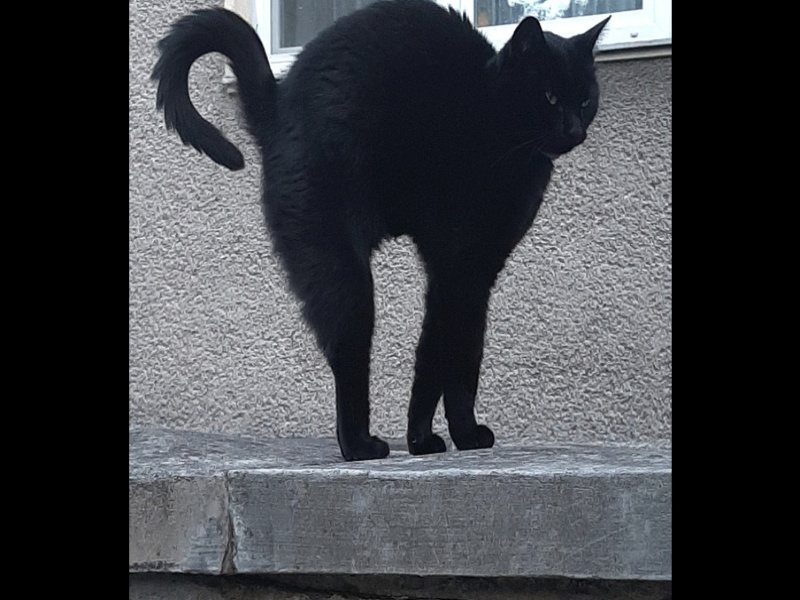cat: (149, 4, 614, 469)
